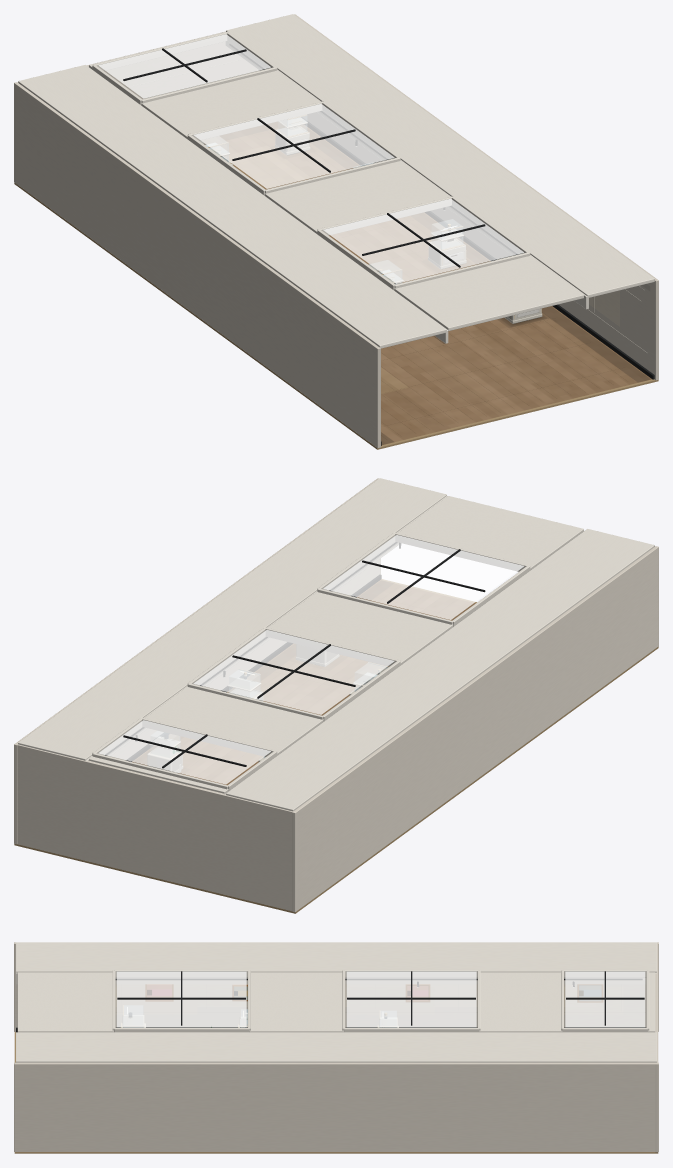
Rendered from gallery_shell.glb.
The picture shows the model from 3 angles, top to bottom: view 1: azimuth 30°, elevation 25°; view 2: azimuth 150°, elevation 25°; view 3: azimuth 270°, elevation 25°; orthographic projection. The views are drawn at different scales.
Parts seen in each view (by area): view 1: left warm gallery wall, hero baked oak gallery floor, left ceiling band, right ceiling band, skylight glass 0, skylight glass 1, center ceiling panel -5.4, right warm gallery wall, center ceiling panel 7.1, center ceiling panel 19.5, skylight glass 2, far gallery wall (+12 smaller); view 2: left warm gallery wall, far gallery wall, left ceiling band, right ceiling band, hero baked oak gallery floor, skylight glass 1, skylight glass 0, center ceiling panel -5.4, center ceiling panel 7.1, center ceiling panel 19.5, skylight glass 2, right warm gallery wall (+11 smaller); view 3: right warm gallery wall, right ceiling band, left ceiling band, left warm gallery wall, skylight glass 0, skylight glass 1, center ceiling panel -5.4, center ceiling panel 7.1, center ceiling panel 19.5, skylight glass 2, left soffit face, hero floor acoustic subbase (+12 smaller).
Boxes of the visible parts, bbox=[...] form: left warm gallery wall: bbox=[14, 82, 380, 448]; hero baked oak gallery floor: bbox=[200, 122, 651, 445]; left ceiling band: bbox=[18, 65, 446, 348]; right ceiling band: bbox=[226, 14, 654, 297]; skylight glass 0: bbox=[323, 198, 523, 283]; skylight glass 1: bbox=[194, 104, 394, 188]; center ceiling panel -5.4: bbox=[394, 255, 583, 331]; right warm gallery wall: bbox=[294, 14, 658, 380]; center ceiling panel 7.1: bbox=[264, 160, 449, 233]; center ceiling panel 19.5: bbox=[141, 70, 319, 138]; skylight glass 2: bbox=[98, 34, 270, 98]; far gallery wall: bbox=[14, 14, 296, 183]; left warm gallery wall: bbox=[292, 546, 658, 912]; far gallery wall: bbox=[15, 743, 297, 911]; left ceiling band: bbox=[226, 529, 654, 811]; right ceiling band: bbox=[18, 478, 446, 760]; hero baked oak gallery floor: bbox=[132, 580, 475, 785]; skylight glass 1: bbox=[193, 630, 394, 714]; skylight glass 0: bbox=[323, 535, 523, 619]; center ceiling panel -5.4: bbox=[398, 496, 583, 570]; center ceiling panel 7.1: bbox=[268, 592, 453, 664]; center ceiling panel 19.5: bbox=[145, 686, 323, 755]; skylight glass 2: bbox=[98, 720, 270, 784]; right warm gallery wall: bbox=[14, 478, 380, 844]; right warm gallery wall: bbox=[14, 1062, 658, 1151]; right ceiling band: bbox=[16, 1032, 656, 1062]; left ceiling band: bbox=[16, 942, 656, 972]; left warm gallery wall: bbox=[14, 942, 658, 1031]; skylight glass 0: bbox=[116, 971, 246, 1027]; skylight glass 1: bbox=[346, 971, 476, 1027]; center ceiling panel -5.4: bbox=[17, 972, 113, 1032]; center ceiling panel 7.1: bbox=[249, 972, 343, 1032]; center ceiling panel 19.5: bbox=[479, 972, 562, 1032]; skylight glass 2: bbox=[565, 971, 645, 1027]; left soffit face: bbox=[16, 972, 656, 984]; hero floor acoustic subbase: bbox=[14, 1032, 658, 1153].
Bounding box in the file's own units: 15.55 × 5.66 × 34.8.
41 materials, 9 textured.
